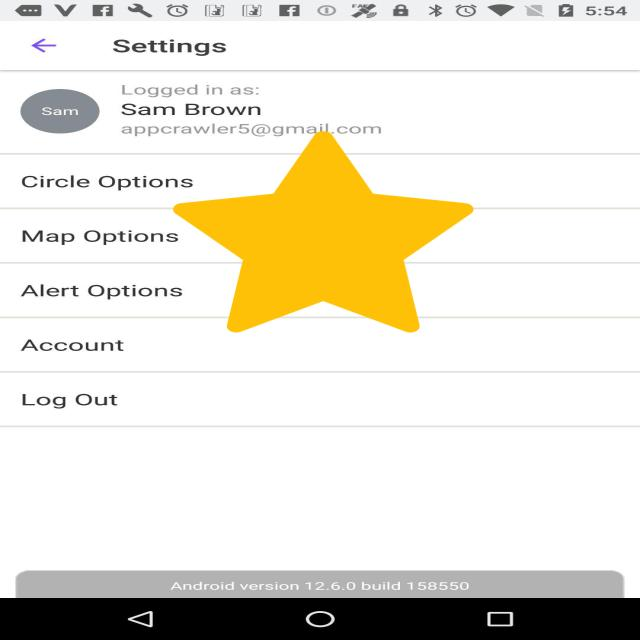forced continuity: (173, 131, 474, 333)
